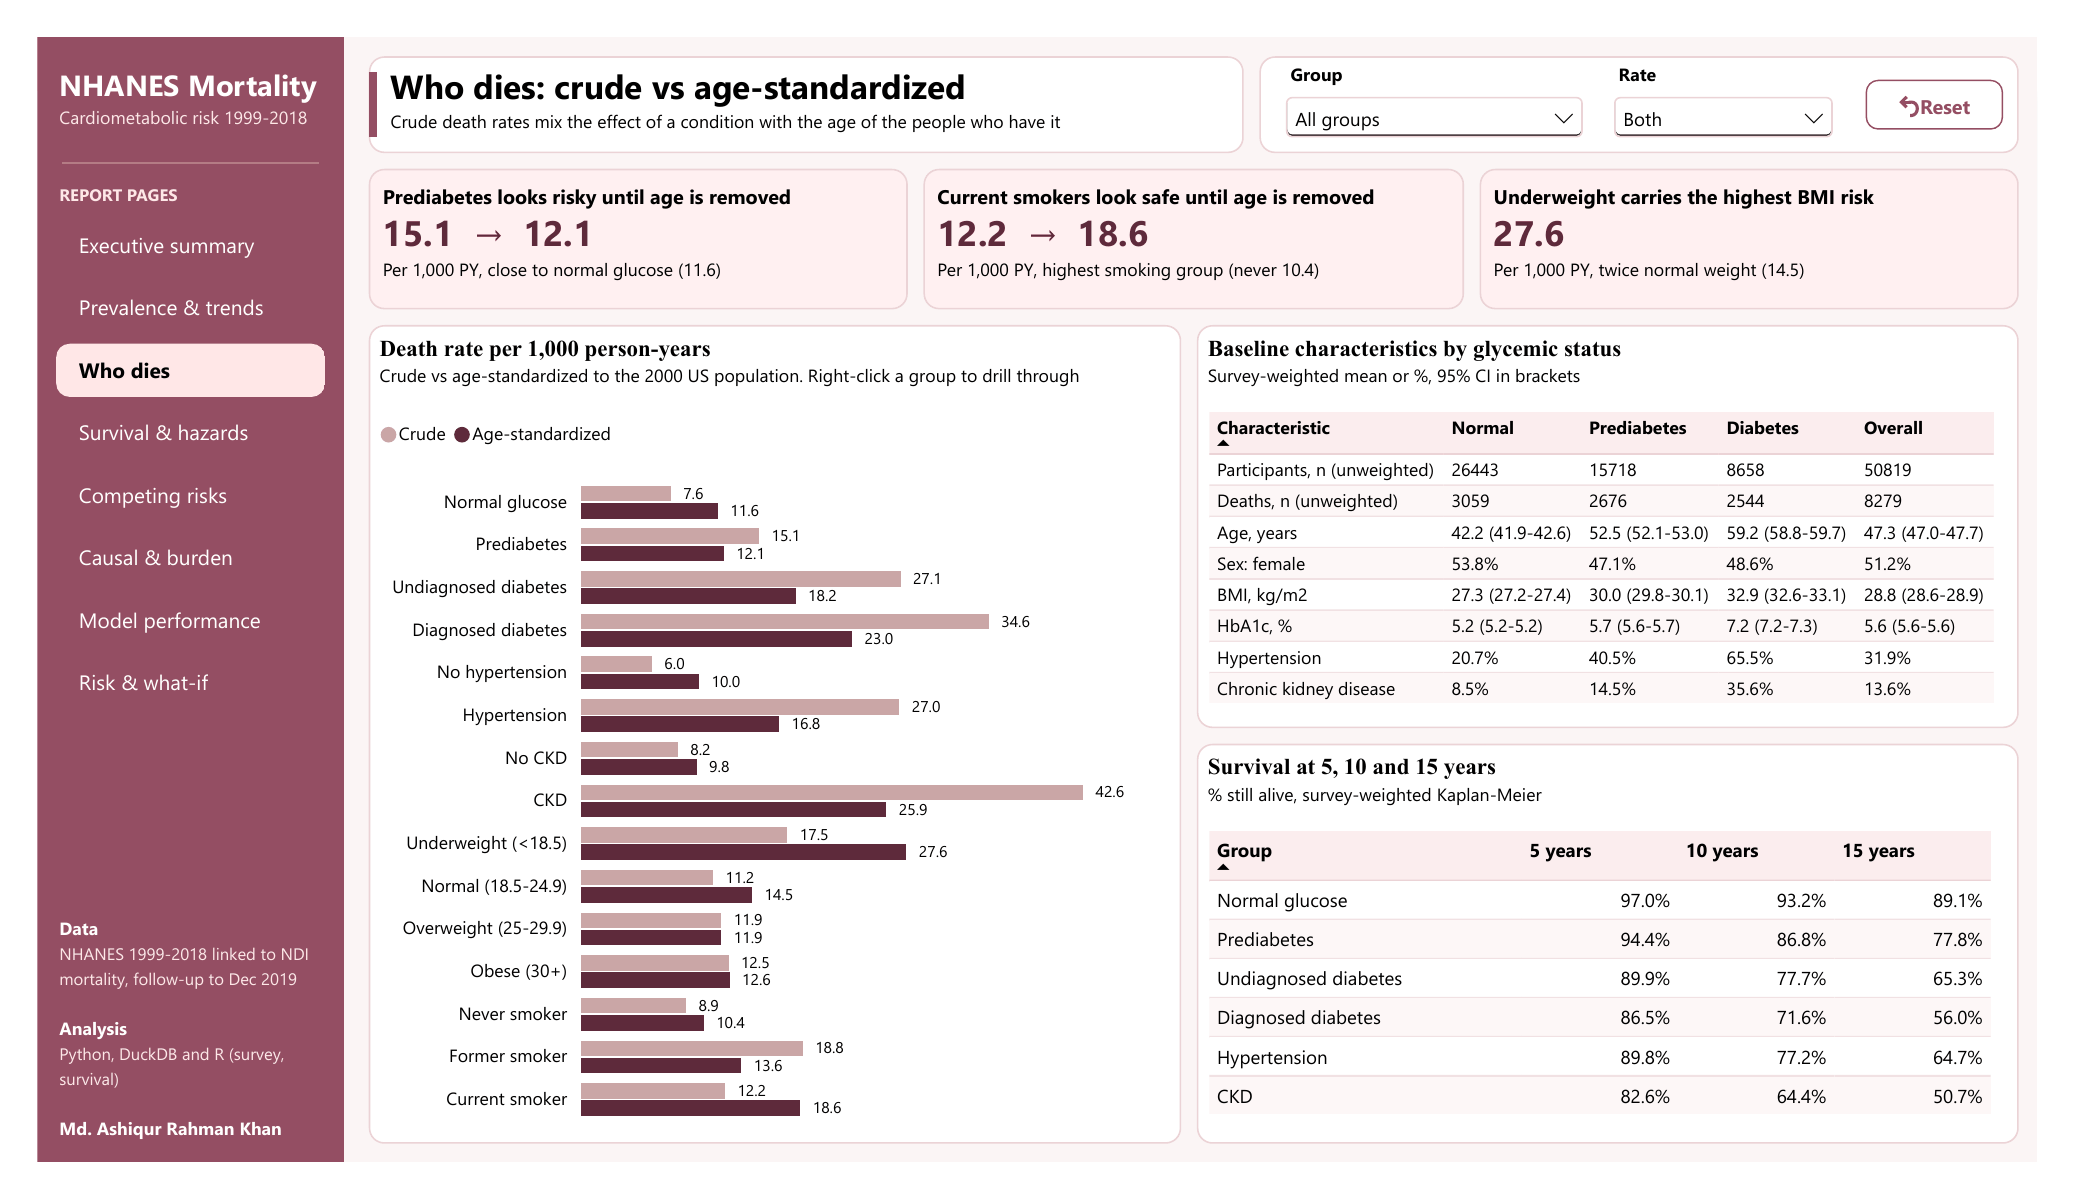

What the dashboard file says about the page in this screenshot:
{"tool":"powerbi","page":{"name":"Who dies","canvas":[1280,720],"ordinal":2},"visuals":[{"type":"shape","box":[0,0,196,720],"z":1100},{"type":"textbox","box":[12,16,176,56],"z":1200},{"type":"shape","box":[16,80,164,1],"z":1300},{"type":"textbox","box":[12,90,176,22],"z":1400},{"type":"actionButton","box":[12,116,172,34],"z":1500},{"type":"actionButton","box":[12,156,172,34],"z":1600},{"type":"actionButton","box":[12,196,172,34],"z":1700},{"type":"actionButton","box":[12,236,172,34],"z":1800},{"type":"actionButton","box":[12,276,172,34],"z":1900},{"type":"actionButton","box":[12,316,172,34],"z":2000},{"type":"actionButton","box":[12,356,172,34],"z":2100},{"type":"actionButton","box":[12,396,172,34],"z":2200},{"type":"textbox","box":[12,560,176,150],"z":2300},{"type":"shape","box":[212,12,560,62],"z":2400},{"type":"shape","box":[212,22,5,42],"z":2500},{"type":"textbox","box":[224,15,542,56],"z":2600},{"type":"shape","box":[782,12,486,62],"z":2700},{"type":"actionButton","box":[1170,27,88,32],"z":2800},{"type":"slicer","fields":{"Values":["Who Dies Group.Group"]},"box":[794,16,200,54],"z":2900},{"type":"slicer","fields":{"Values":["Rate Type.Rate"]},"box":[1004,16,150,54],"z":3000},{"type":"textbox","box":[212,84,345.3,90],"z":3100},{"type":"textbox","box":[567.3,84,345.3,90],"z":3200},{"type":"textbox","box":[922.6,84,345.3,90],"z":3300},{"type":"clusteredBarChart","title":"Death rate per 1,000 person-years","fields":{"Category":["dim_group_level.level_label"],"Y":["_Measures.Death Rate Crude Shown","_Measures.Death Rate Age-Std Shown"]},"box":[212,184,520,524],"z":3400},{"type":"tableEx","title":"Baseline characteristics by glycemic status","fields":{"Values":["stat_table1.characteristic","stat_table1.normal","stat_table1.prediabetes","stat_table1.diabetes","stat_table1.overall"]},"box":[742,184,526,258],"z":3500},{"type":"tableEx","title":"Survival at 5, 10 and 15 years","fields":{"Values":["dim_group_level.level_label","_Measures.Survival 5y % Shown","_Measures.Survival 10y % Shown","_Measures.Survival 15y % Shown"]},"box":[742,452,526,256],"z":3600}]}

Visuals, with their boxes on the page's 1280x720 design canvas (x1, y1, x2, y2). These are canvas units, not pixel positions in the 2075x1200 screenshot, which may show the page scaled, cropped or inside an application window:
shape: left=0, top=0, right=196, bottom=720
textbox: left=12, top=16, right=188, bottom=72
shape: left=16, top=80, right=180, bottom=81
textbox: left=12, top=90, right=188, bottom=112
actionButton: left=12, top=116, right=184, bottom=150
actionButton: left=12, top=156, right=184, bottom=190
actionButton: left=12, top=196, right=184, bottom=230
actionButton: left=12, top=236, right=184, bottom=270
actionButton: left=12, top=276, right=184, bottom=310
actionButton: left=12, top=316, right=184, bottom=350
actionButton: left=12, top=356, right=184, bottom=390
actionButton: left=12, top=396, right=184, bottom=430
textbox: left=12, top=560, right=188, bottom=710
shape: left=212, top=12, right=772, bottom=74
shape: left=212, top=22, right=217, bottom=64
textbox: left=224, top=15, right=766, bottom=71
shape: left=782, top=12, right=1268, bottom=74
actionButton: left=1170, top=27, right=1258, bottom=59
slicer - Who Dies Group.Group: left=794, top=16, right=994, bottom=70
slicer - Rate Type.Rate: left=1004, top=16, right=1154, bottom=70
textbox: left=212, top=84, right=557, bottom=174
textbox: left=567, top=84, right=913, bottom=174
textbox: left=923, top=84, right=1268, bottom=174
"Death rate per 1,000 person-years" clusteredBarChart: left=212, top=184, right=732, bottom=708
"Baseline characteristics by glycemic status" tableEx: left=742, top=184, right=1268, bottom=442
"Survival at 5, 10 and 15 years" tableEx: left=742, top=452, right=1268, bottom=708
